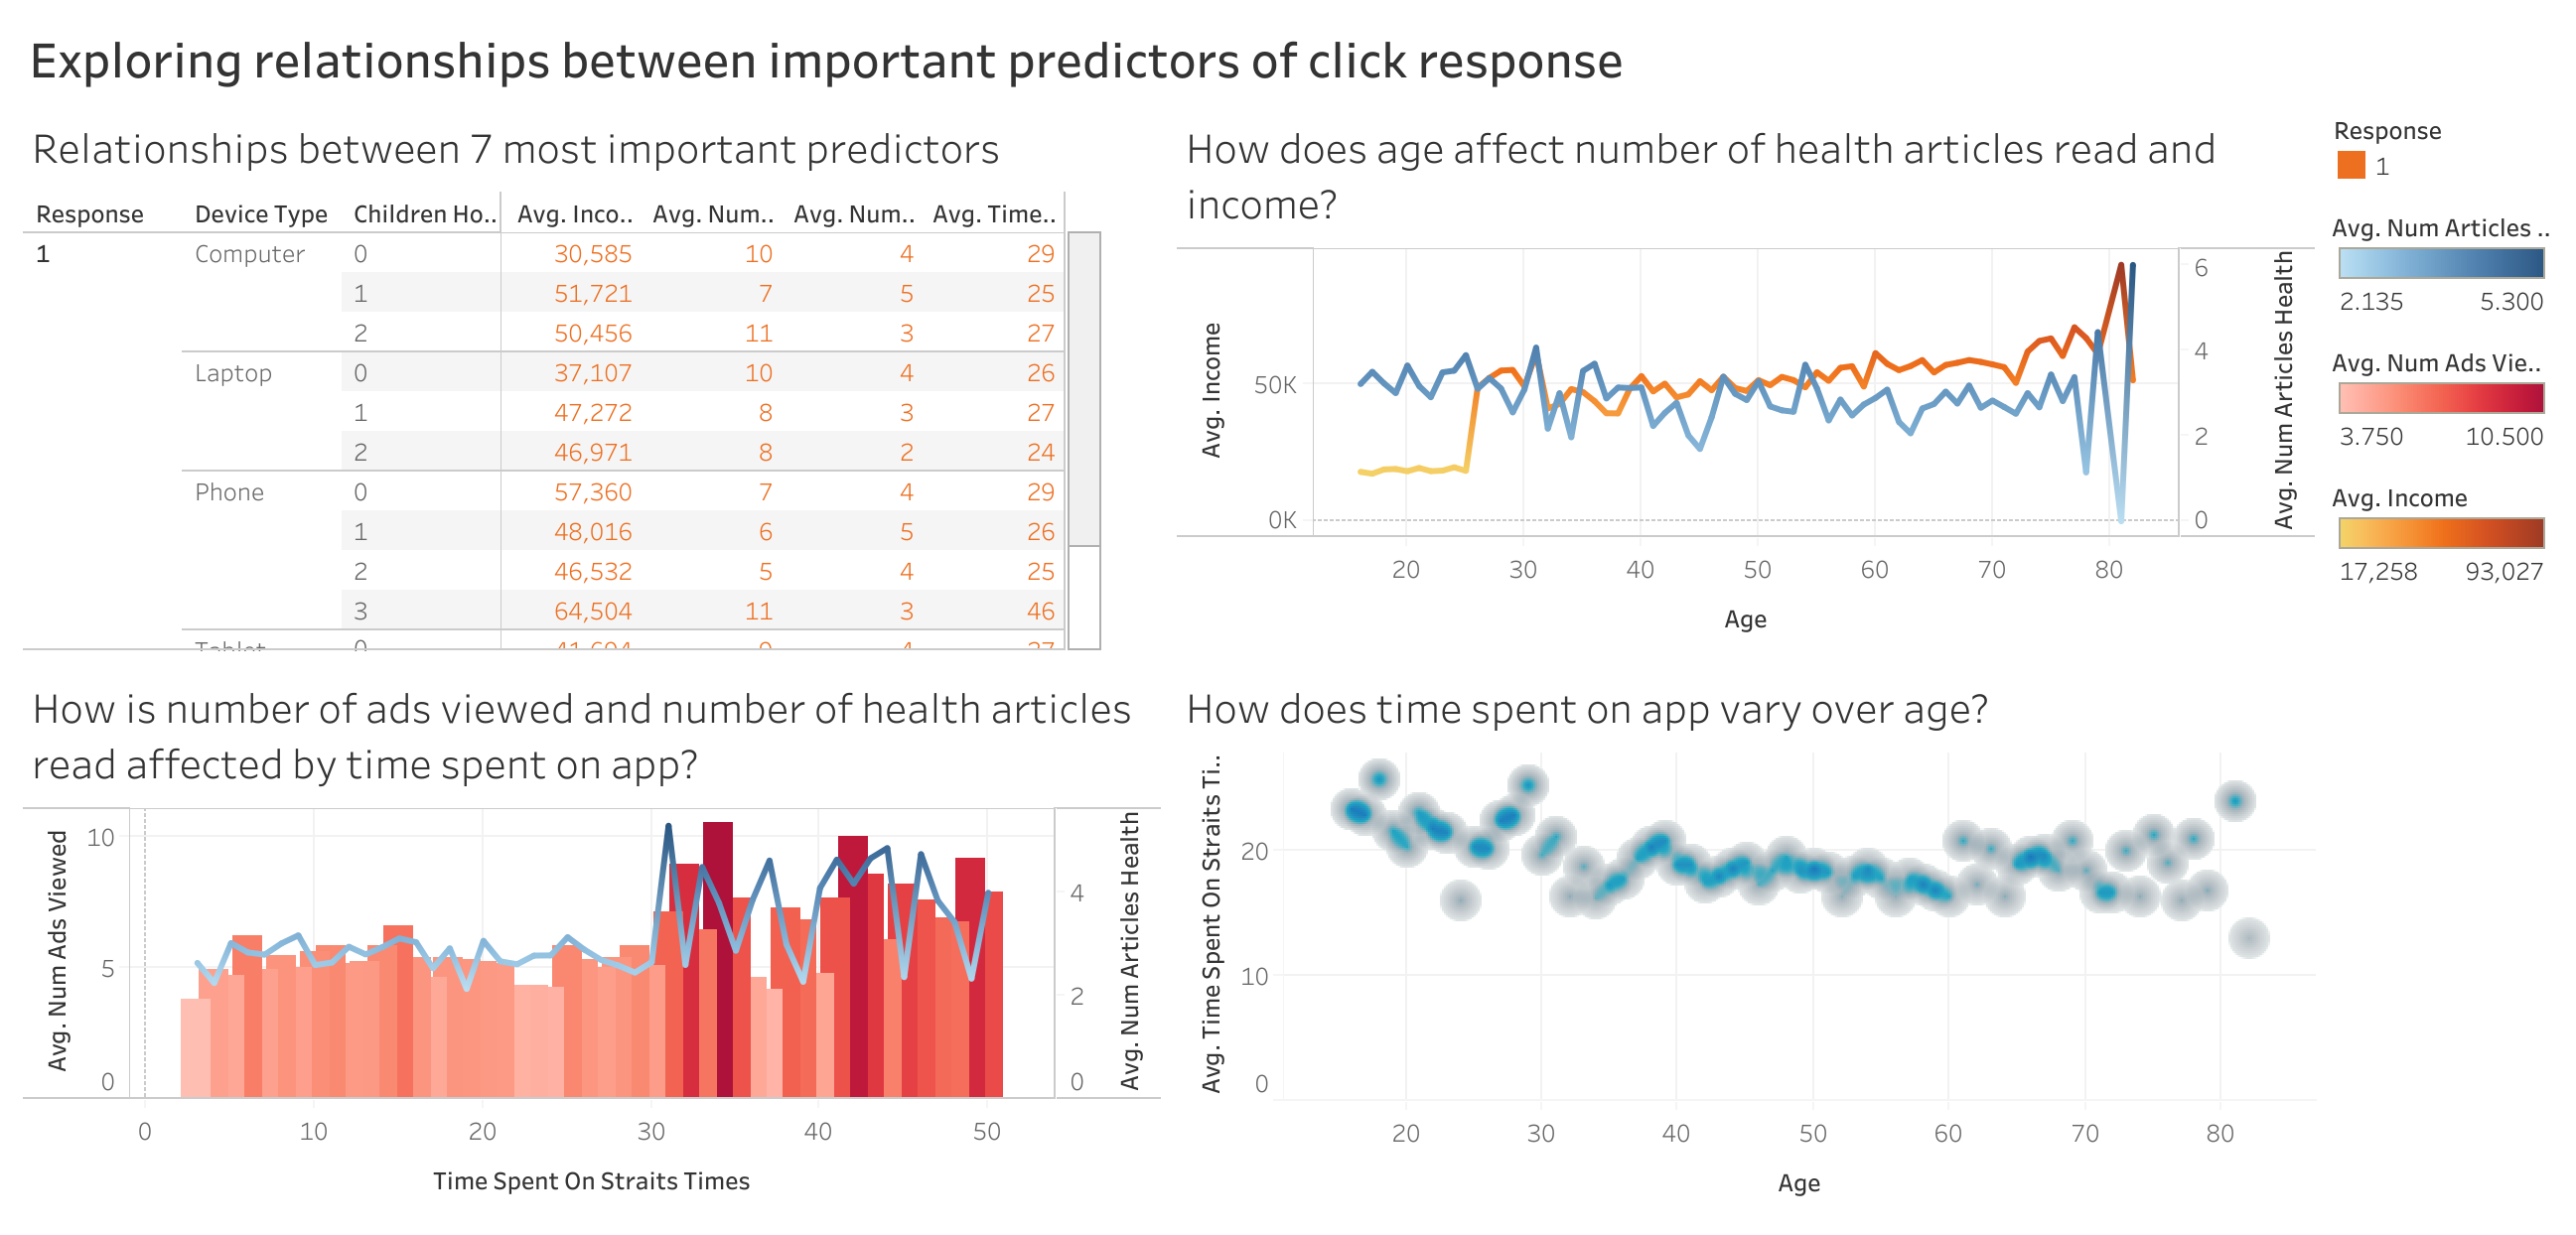

The page's visual inventory and layout, read from the dashboard file:
{"tool":"tableau","page":{"name":"Dashboard 1","canvas":[1000,1000],"units":"permille","ordinal":0},"visuals":[{"type":"title","box":[9.2,15.1,981.6,77.5]},{"type":"worksheet","title":"vis1","mark":"Automatic","rows":["Response","DeviceType","ChildrenHome"],"box":[9.2,92.6,421.7,446.1]},{"type":"worksheet","title":"vis3","mark":"Automatic","rows":["Income","NumArticlesHealth"],"cols":["Age"],"box":[430.9,92.6,421.8,446.1]},{"type":"legend","title":"vis1","param":"[federated.0pji3xu0897pjz1ff50b102v09yx].[none:Response:ok]","box":[852.7,92.6,138.1,87]},{"type":"legend","title":"vis2","param":"[federated.0pji3xu0897pjz1ff50b102v09yx].[avg:NumArticlesHealth:qk]","box":[852.7,179.6,138.1,122.9]},{"type":"legend","title":"vis2","param":"[federated.0pji3xu0897pjz1ff50b102v09yx].[avg:NumAdsViewed:qk]","box":[852.7,302.4,138.1,122.9]},{"type":"legend","title":"vis3","param":"[federated.0pji3xu0897pjz1ff50b102v09yx].[avg:Income:qk]","box":[852.7,425.3,138.1,122.9]},{"type":"worksheet","title":"vis2","mark":"Automatic","rows":["NumAdsViewed","NumArticlesHealth"],"cols":["TimeSpentOnStraitsTimes"],"box":[9.2,538.7,421.7,446.2]},{"type":"worksheet","title":"vis4","mark":"Heatmap","rows":["TimeSpentOnStraitsTimes"],"cols":["Age"],"box":[430.9,538.7,421.8,446.2]}]}

Visuals, with their boxes on the dashboard's canvas, which has no fixed pixel size, in thousandths of its width and height (x1, y1, x2, y2). These are canvas units, not pixel positions in the 2576x1235 screenshot, which may show the page scaled, cropped or inside an application window:
title: [left=9, top=15, right=991, bottom=93]
"vis1" worksheet: [left=9, top=93, right=431, bottom=539]
"vis3" worksheet: [left=431, top=93, right=853, bottom=539]
"vis1" legend: [left=853, top=93, right=991, bottom=180]
"vis2" legend: [left=853, top=180, right=991, bottom=302]
"vis2" legend: [left=853, top=302, right=991, bottom=425]
"vis3" legend: [left=853, top=425, right=991, bottom=548]
"vis2" worksheet: [left=9, top=539, right=431, bottom=985]
"vis4" worksheet (Heatmap marks): [left=431, top=539, right=853, bottom=985]
